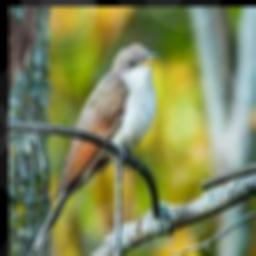Cuckoo: (24, 43, 159, 256)
